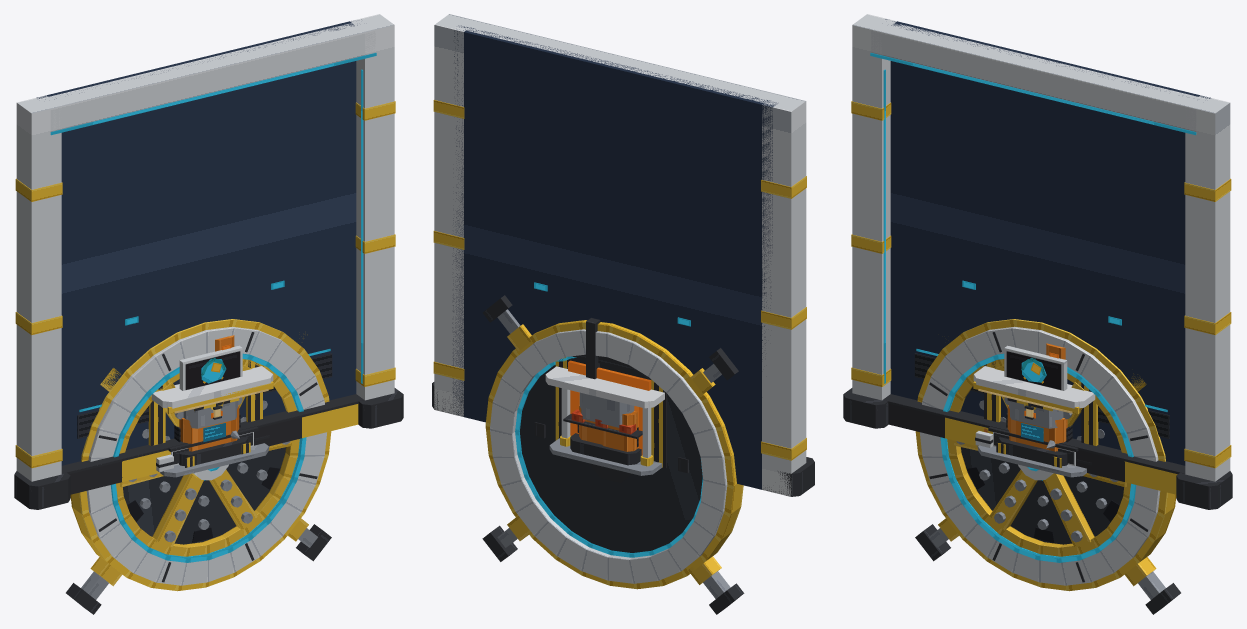
The model's file is automine-props.glb.
3 renders of one model, left to right at view 1: azimuth 30°, elevation 25°; view 2: azimuth 150°, elevation 25°; view 3: azimuth 330°, elevation 25°, orthographic.
Visible parts, largest first — view 1: Wall, Pylon, Pylon.001, Lintel.001, Face, Plinth, PlinthTop, Roof, PylonFoot, Spoke.004, PylonFoot.001, LintelBand (+36 smaller); view 2: Wall, Pylon, Face, Pylon.001, Lintel.001, Roof, Bay, Bin, Deck, Base, Pillar, PylonFoot (+33 smaller); view 3: Wall, Pylon.001, Pylon, Lintel.001, Face, Plinth, PlinthTop, Roof, PylonFoot.001, Spoke.005, PylonFoot, LintelBand (+34 smaller).
Boxes of the visible parts, <box> form: Wall: <box>36,19,361,465</box>; Pylon: <box>16,95,61,481</box>; Pylon.001: <box>350,14,394,400</box>; Lintel.001: <box>38,20,375,131</box>; Face: <box>123,447,285,544</box>; Plinth: <box>69,404,358,494</box>; PlinthTop: <box>61,394,363,474</box>; Roof: <box>151,366,273,408</box>; PylonFoot: <box>14,471,70,509</box>; Spoke.004: <box>152,474,203,547</box>; PylonFoot.001: <box>358,388,403,428</box>; LintelBand: <box>50,53,376,135</box>; Wall: <box>452,25,777,489</box>; Pylon: <box>762,94,806,496</box>; Face: <box>520,358,702,552</box>; Pylon.001: <box>434,14,473,416</box>; Lintel.001: <box>455,18,787,105</box>; Roof: <box>545,366,664,408</box>; Bay: <box>568,360,651,455</box>; Bin: <box>579,392,634,427</box>; Deck: <box>549,438,662,475</box>; Base: <box>570,433,641,465</box>; Pillar: <box>651,379,666,468</box>; PylonFoot: <box>762,457,814,496</box>; Wall: <box>885,19,1210,465</box>; Pylon.001: <box>1185,95,1230,481</box>; Pylon: <box>852,14,896,400</box>; Lintel.001: <box>871,20,1208,131</box>; Face: <box>961,447,1123,544</box>; Plinth: <box>888,404,1177,494</box>; PlinthTop: <box>883,394,1185,474</box>; Roof: <box>973,366,1095,408</box>; PylonFoot.001: <box>1176,471,1232,509</box>; Spoke.005: <box>1043,474,1094,547</box>; PylonFoot: <box>843,388,888,428</box>; LintelBand: <box>870,53,1196,135</box>.
Size of the model in its own units: 20 by 26.86 by 3.74.
Materials: 2 (2 with a texture image).
